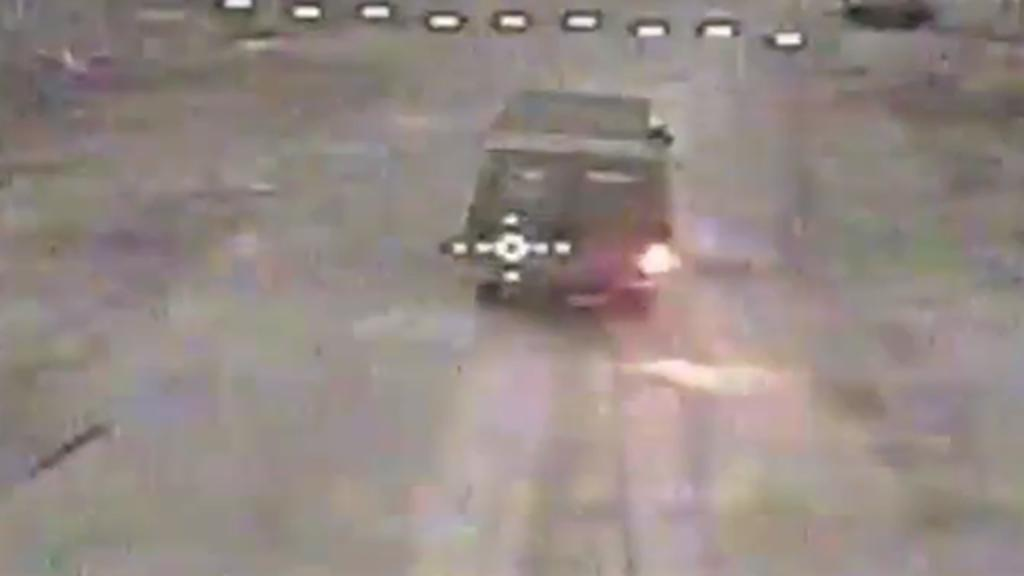CAR: (454, 70, 676, 318)
